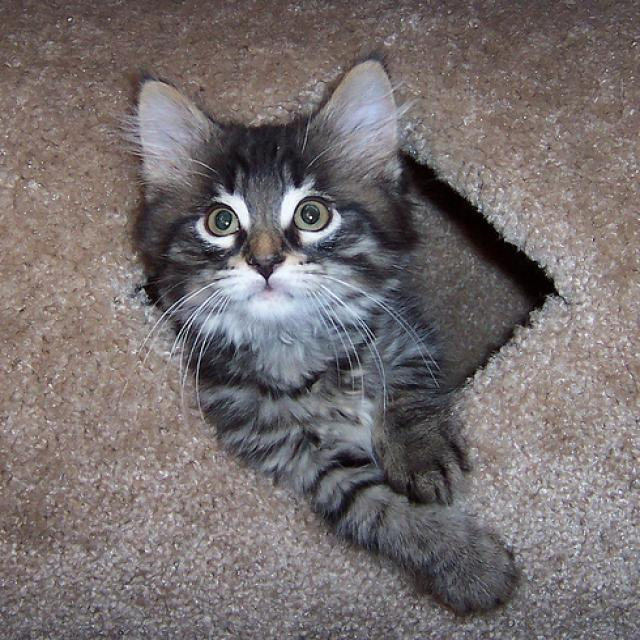cat: (135, 70, 532, 590)
